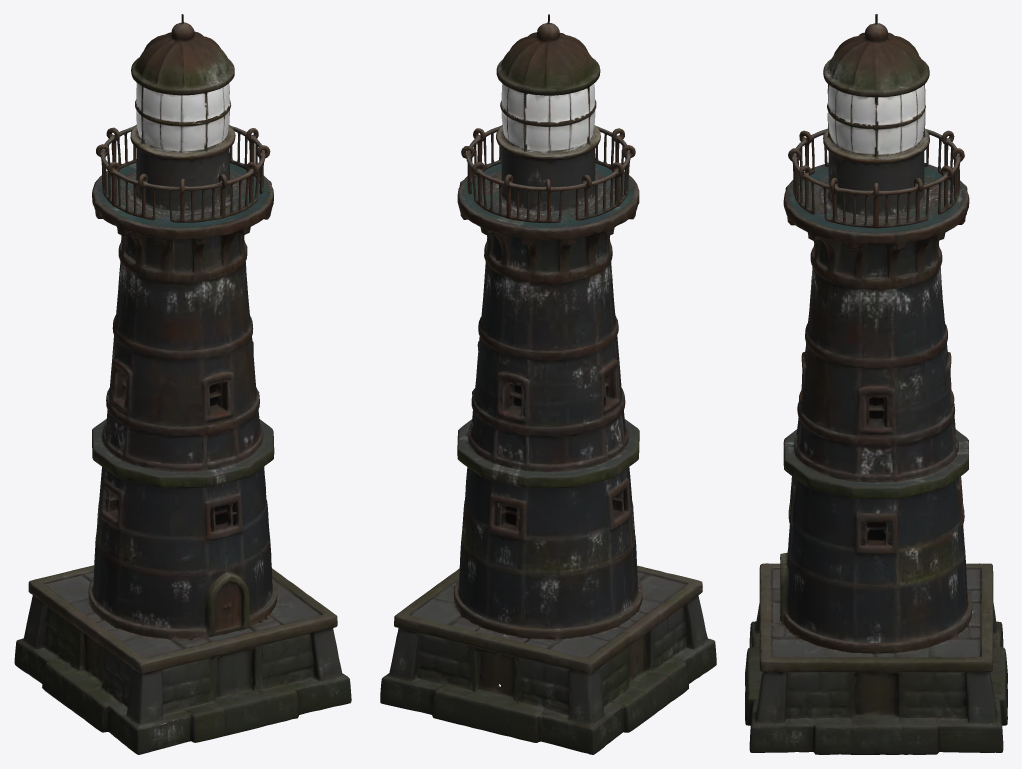
File: lighthouse.glb
The picture shows the model from 3 angles, left to right: view 1: azimuth 30°, elevation 25°; view 2: azimuth 150°, elevation 25°; view 3: azimuth 270°, elevation 25°; orthographic projection. The views are drawn at different scales.
Parts seen in each view (by area): view 1: world; view 2: world; view 3: world.
Boxes of the visible parts, x1,y1,x2,y2 form: world: (14,14,351,754); world: (380,14,716,754); world: (745,14,1007,754).
Size of the model in its own units: 0.3474 by 0.999 by 0.3473.
1 material, 1 textured.
